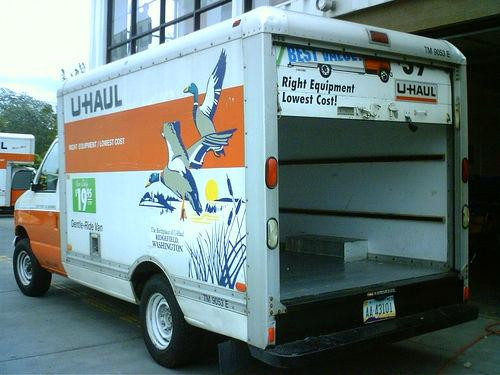truck: (13, 5, 477, 372)
